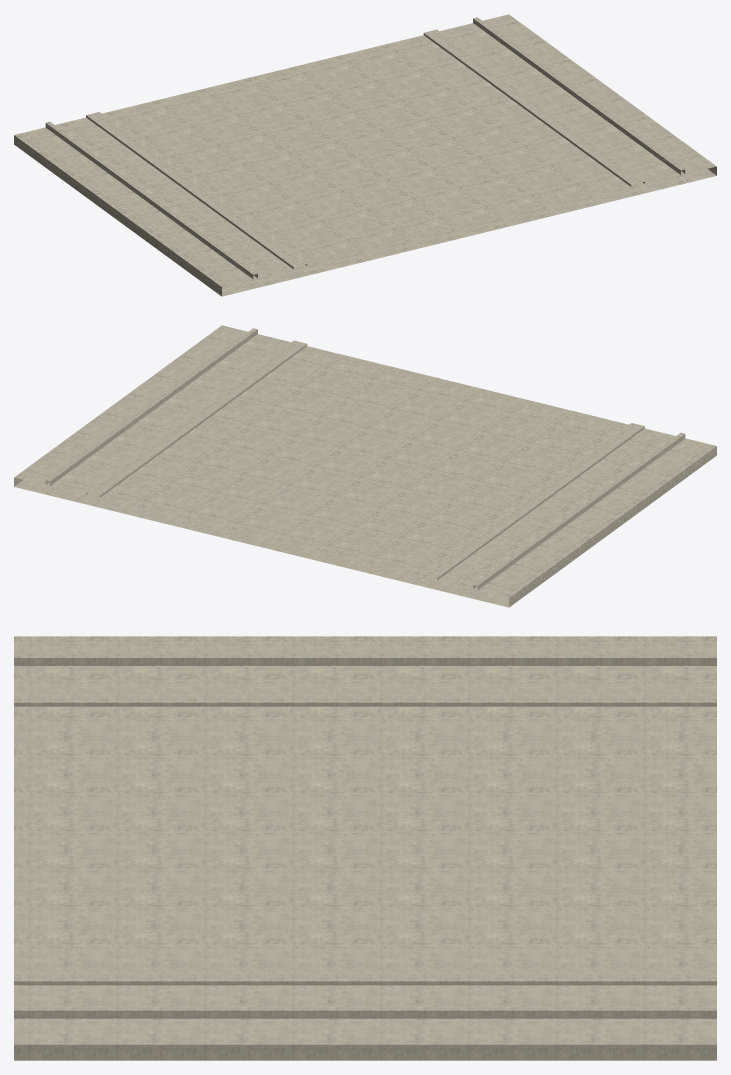
File: SuspBridgeBase-6L-40M.FBX
3 renders of one model, top to bottom at view 1: azimuth 30°, elevation 25°; view 2: azimuth 150°, elevation 25°; view 3: azimuth 270°, elevation 25°, orthographic. The views are drawn at different scales.
Parts seen in each view (by area): view 1: SuspBridgeBase-6L-40M; view 2: SuspBridgeBase-6L-40M; view 3: SuspBridgeBase-6L-40M.
Part boxes in pixels (x1,y1,x2,y2): SuspBridgeBase-6L-40M: (14,14,716,296); SuspBridgeBase-6L-40M: (14,325,716,607); SuspBridgeBase-6L-40M: (14,636,716,1060).
Size of the model in its own units: 55 by 1.5 by 40.
